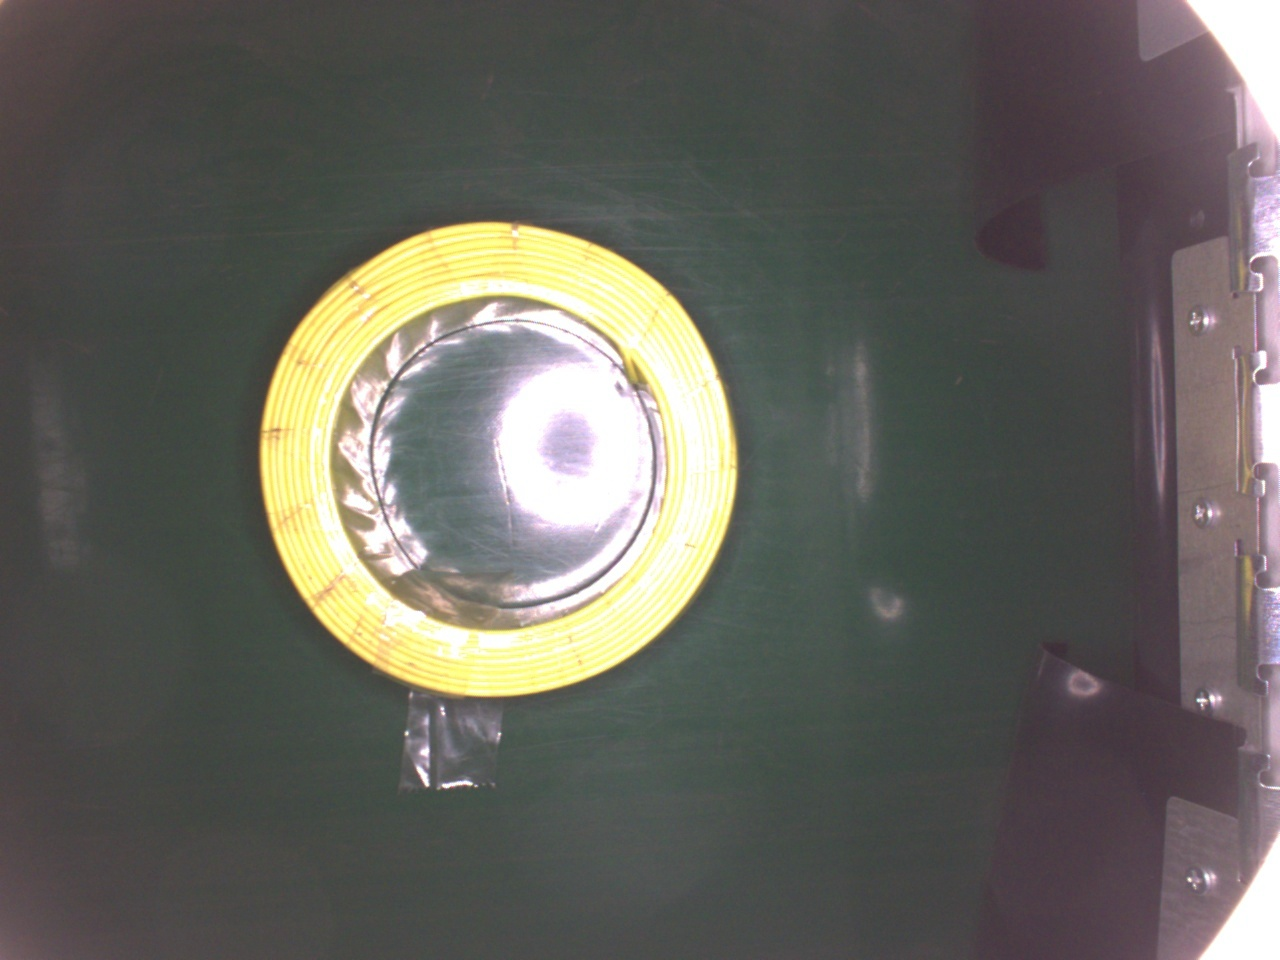yellow: (255, 214, 739, 707)
